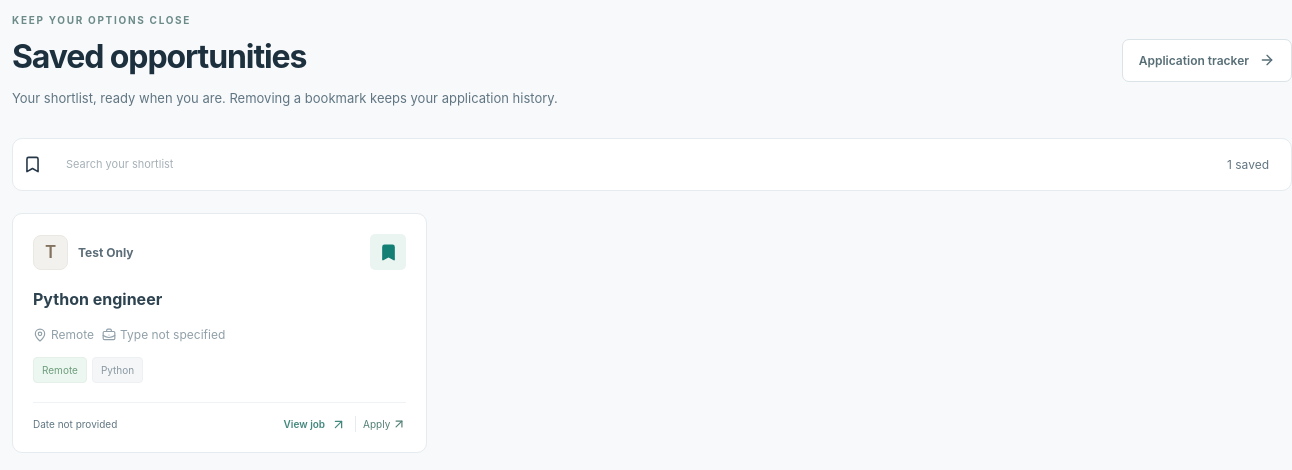
Test case: filters saved opportunities and keeps links to official applications
Check: the link "Python engineer" is shown, box 33,289 -> 162,309
Type "no-such-title" into the field named "Search saved jobs" at [628, 165], box 66,149 -> 1191,180
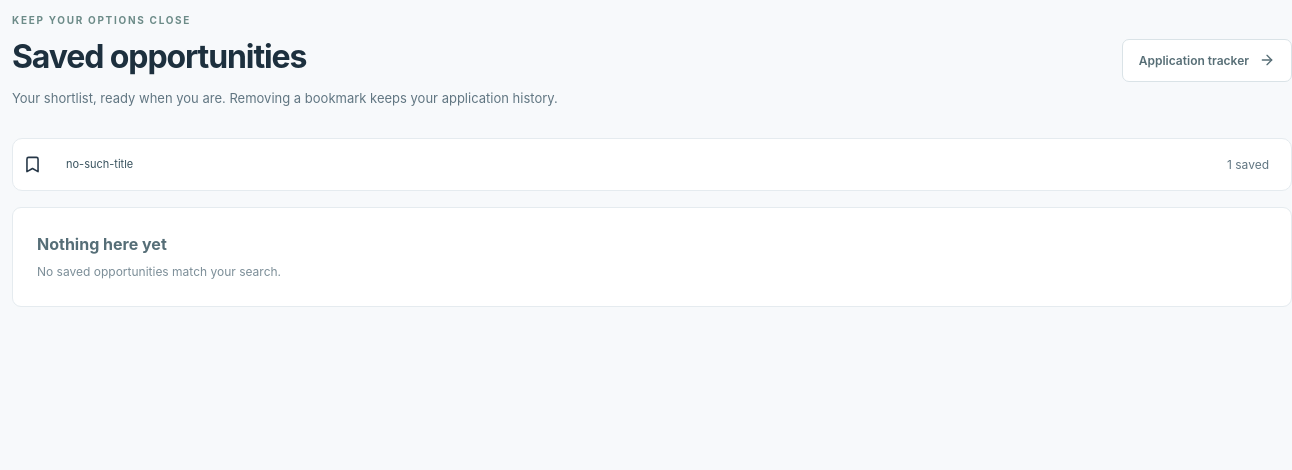
Check: the text "No saved opportunities match your search." is shown, box 37,264 -> 281,279
